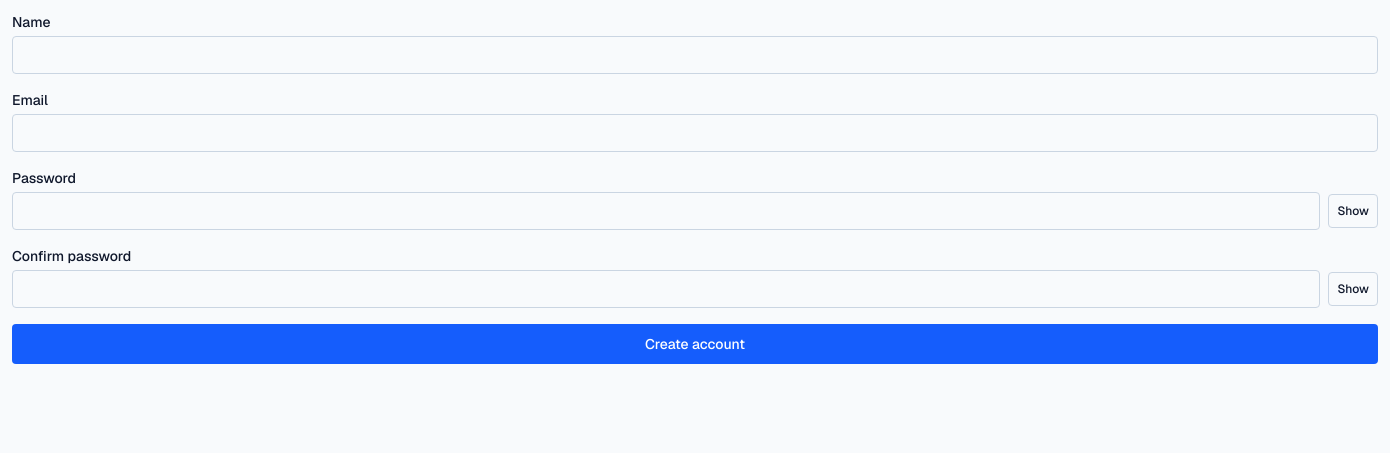
Test: RegisterForm › shows specific inline validation errors and focuses the first invalid field on empty submit
The width and height of the screenshot is (1390, 453).
Click the button "Create account".
click(695, 344)  # box [12,324,1378,364]
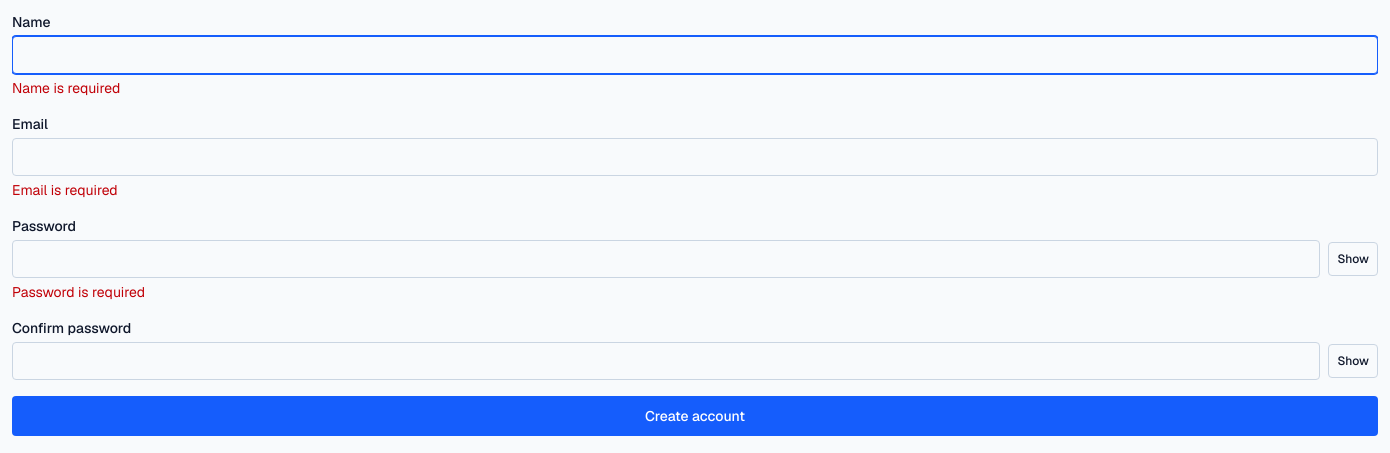
Result: the text "Name is required" is shown at [12,79,120,97]
